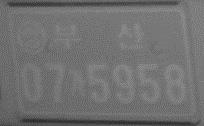0: (20, 61, 43, 104)
5: (88, 62, 113, 106), (137, 63, 163, 104)
7: (42, 61, 70, 106)
8: (163, 64, 187, 106)
9: (112, 62, 137, 105)
가: (69, 68, 89, 101)
부산_D: (51, 21, 145, 54)
영: (15, 18, 49, 57)
